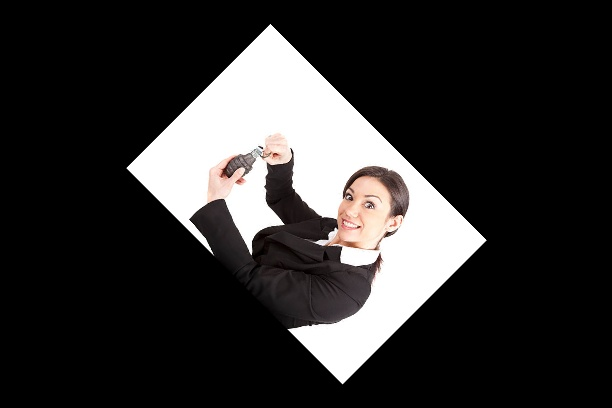e1: (221, 141, 267, 184)
